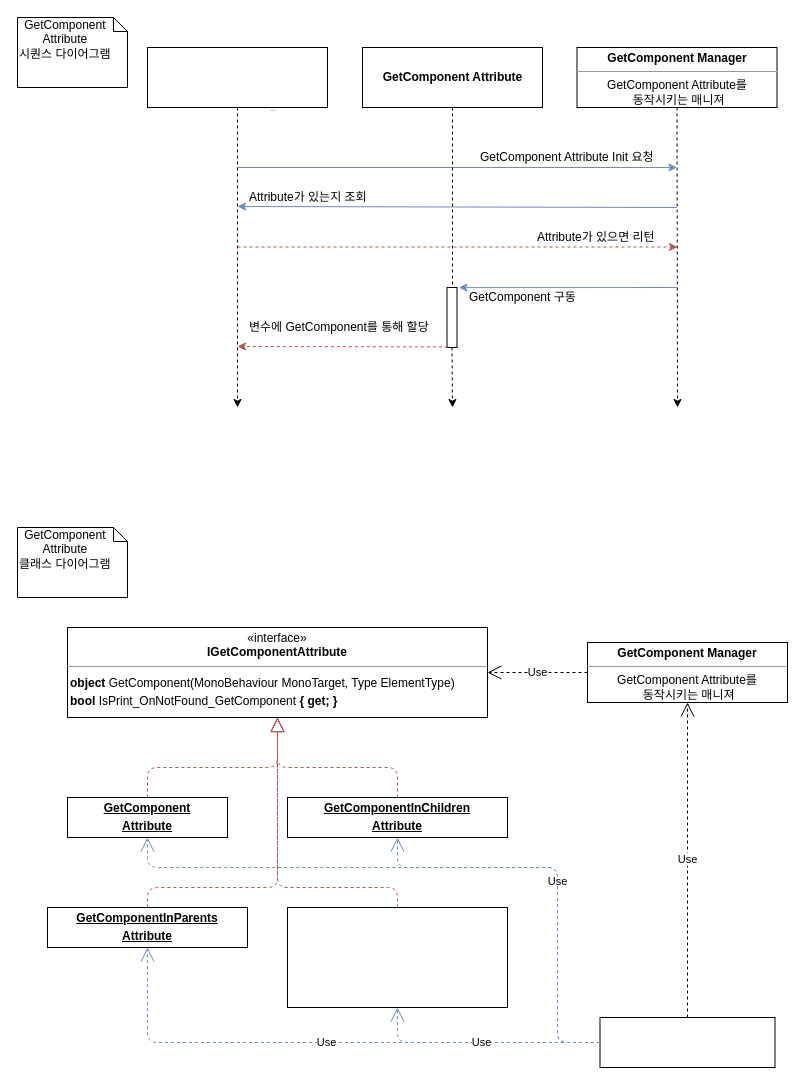
Image size: 805x1085. Some labels were removed from this diagram. The shapes that lost their labels are listed below. From the top down, each one's box as (x1, y1, x2, y2) in pixels, then its label:
(146, 46, 328, 108): GetComponent Attribute User
(286, 906, 508, 1008): ChildRequireComponent Attribute 플레이를 안한 상태에서 해당 컴포넌트가 자식에 있는지 체크하여 인스펙터에 상태를 노출
(599, 1016, 775, 1068): GetComponent Attribute의 구동이 필요한 클래스
